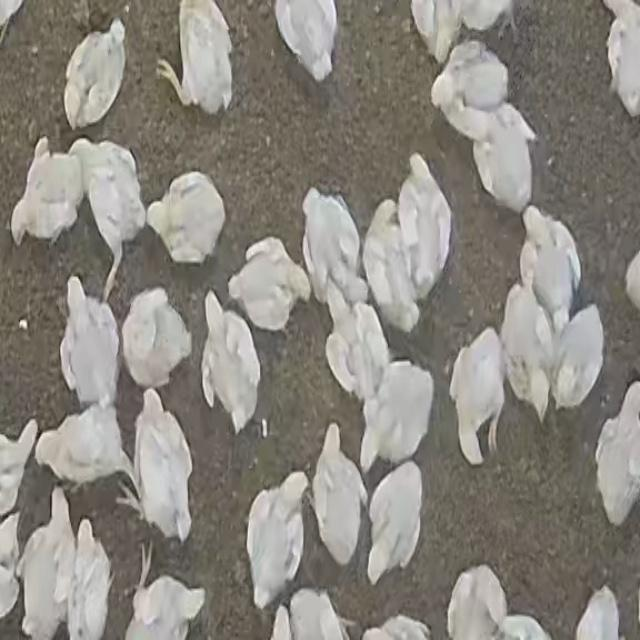chicken: (69, 141, 148, 293), (127, 387, 195, 546), (33, 405, 139, 501), (246, 470, 312, 610), (57, 276, 124, 412), (18, 489, 78, 640), (200, 293, 262, 435), (360, 358, 434, 476), (395, 154, 453, 304), (431, 42, 515, 144), (10, 137, 85, 250), (299, 188, 367, 312), (310, 427, 368, 572), (160, 2, 235, 114), (519, 206, 583, 334), (448, 329, 507, 467), (122, 545, 206, 640), (466, 105, 538, 215), (501, 281, 557, 422), (364, 459, 425, 587), (322, 288, 388, 406), (228, 239, 310, 333), (361, 201, 417, 337), (147, 172, 226, 267), (120, 286, 190, 392), (594, 382, 640, 526), (64, 19, 125, 127), (547, 306, 605, 418), (66, 511, 116, 638), (272, 2, 338, 83), (600, 3, 640, 118), (446, 566, 508, 640), (1, 418, 40, 518), (282, 589, 358, 639), (573, 586, 622, 640)
